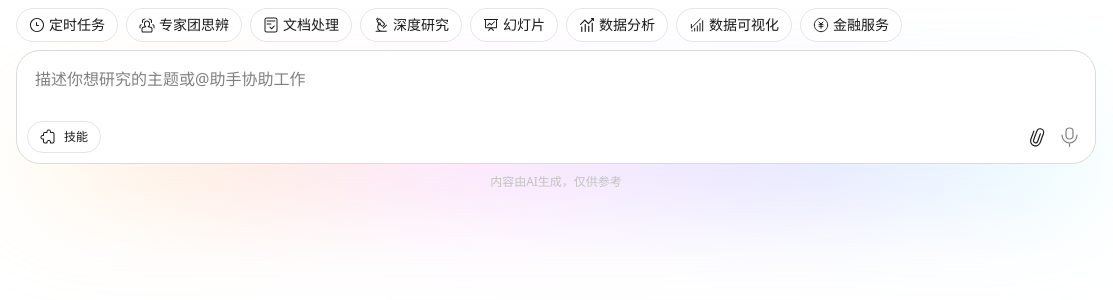
Test: ChatInput scheduled task quick action injection › renders the first expert debate card with three highlighted mentions and no duplicated lead mention
The image size is (1113, 300).
What coordinates should you click on to do the following:
click the button "专家团思辨"
I would click on:
 (184, 25)
Its box is 126,8 -> 242,42.
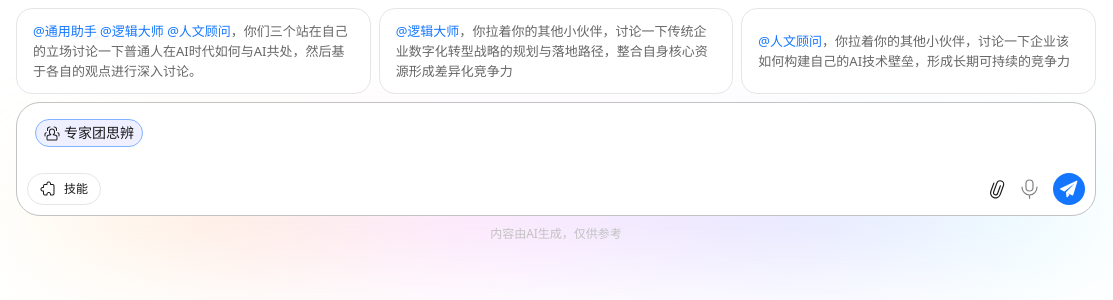
expect the button that starts with "@通用助手" is shown: met, box 16,8 -> 371,94
